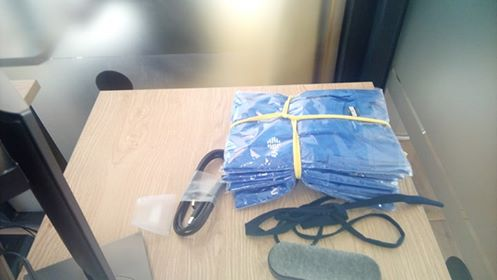plastic bag: (219, 87, 411, 209)
